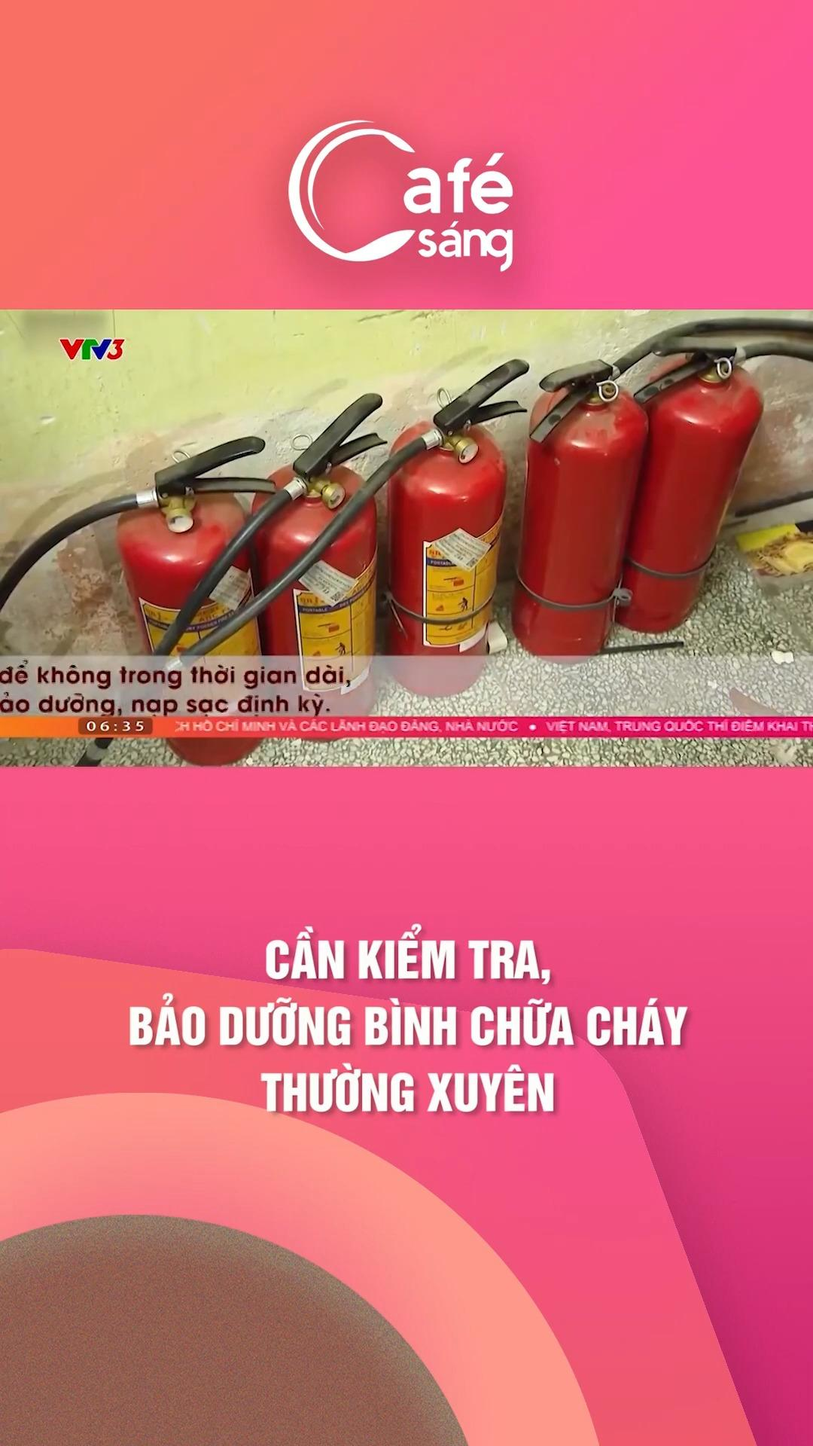FireExtinguisher: (612, 310, 799, 677), (84, 456, 277, 802), (493, 317, 663, 694), (377, 351, 524, 717), (247, 430, 388, 739)
